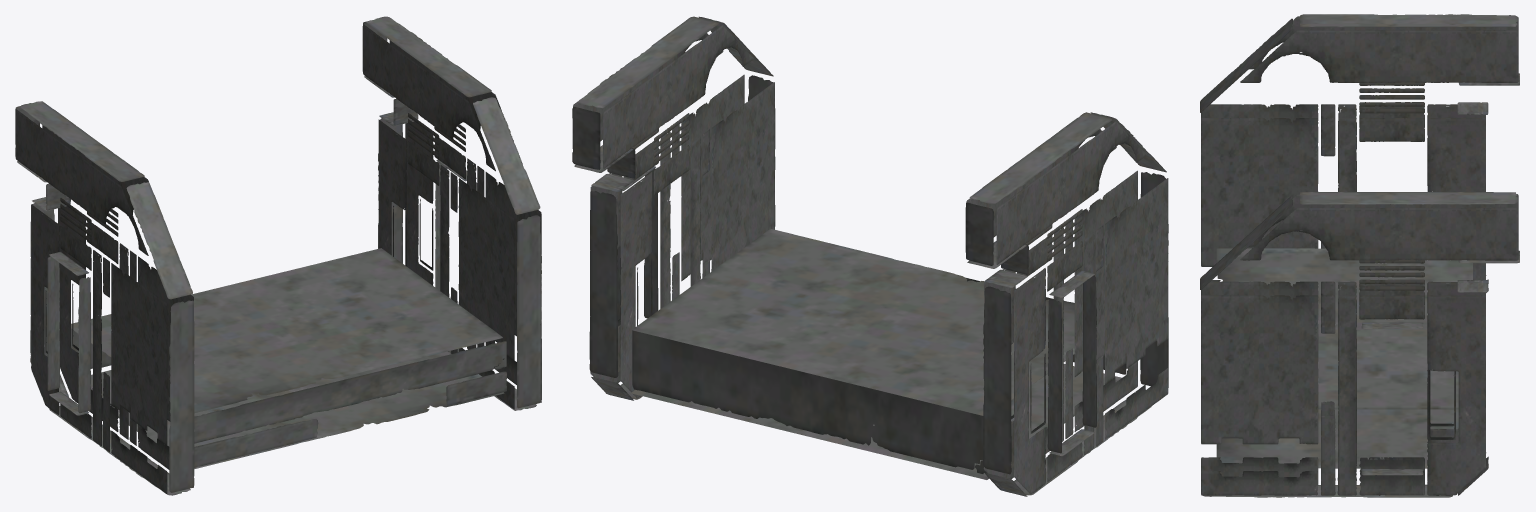
Rendered from ship_component_capacitor_s01_l1.fbx.
3 renders of one model, left to right at view 1: azimuth 30°, elevation 25°; view 2: azimuth 150°, elevation 25°; view 3: azimuth 270°, elevation 25°, orthographic. The views are drawn at different scales.
Parts seen in each view (by area): view 1: mesh_node; view 2: mesh_node; view 3: mesh_node.
Part boxes in pixels (x1,y1,x2,y2): mesh_node: [15, 16, 541, 495]; mesh_node: [572, 16, 1168, 496]; mesh_node: [1200, 14, 1519, 497].
Bounding box in the file's own units: 1.6 × 1 × 1.
Materials: 1 (1 with a texture image).
